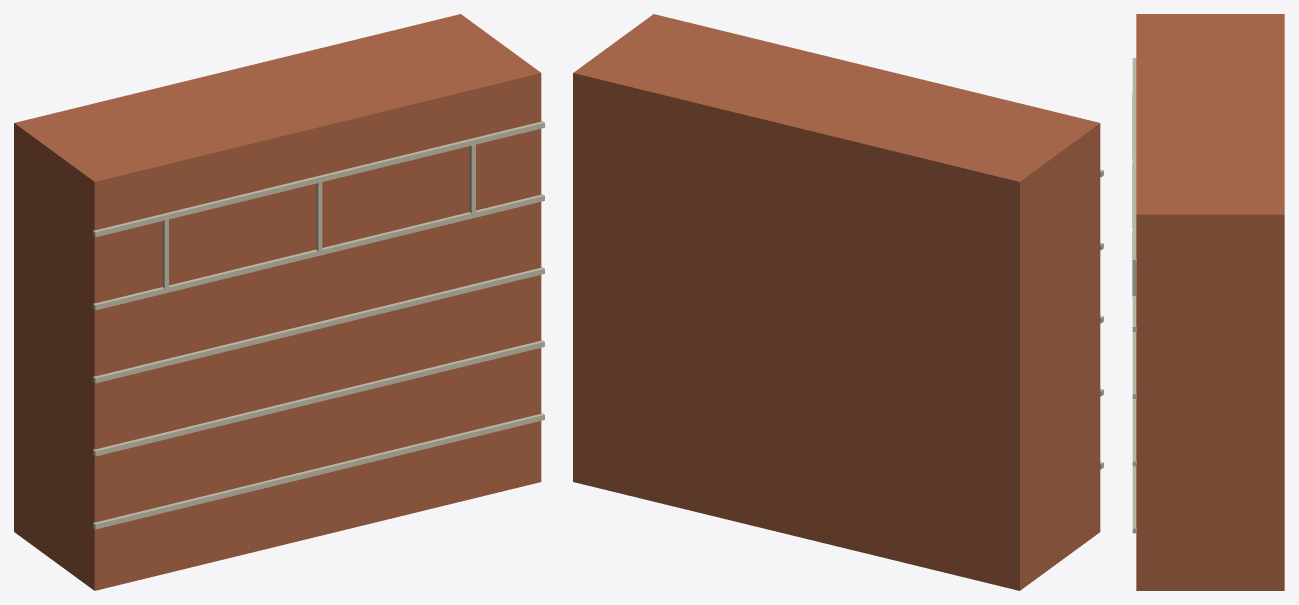
File: wall.glb
3 views of the same model, side by side, from view 1: azimuth 30°, elevation 25°; view 2: azimuth 150°, elevation 25°; view 3: azimuth 270°, elevation 25° (orthographic). The views are drawn at different scales.
Parts seen in each view (by area): view 1: HighWallMesh; view 2: HighWallMesh; view 3: HighWallMesh.
Part boxes in pixels (left/top/right/bottom): HighWallMesh: left=14, top=14, right=544, bottom=590; HighWallMesh: left=573, top=14, right=1103, bottom=590; HighWallMesh: left=1132, top=14, right=1284, bottom=590.
Size of the model in its own units: 3.22 by 2.8 by 1.03.
